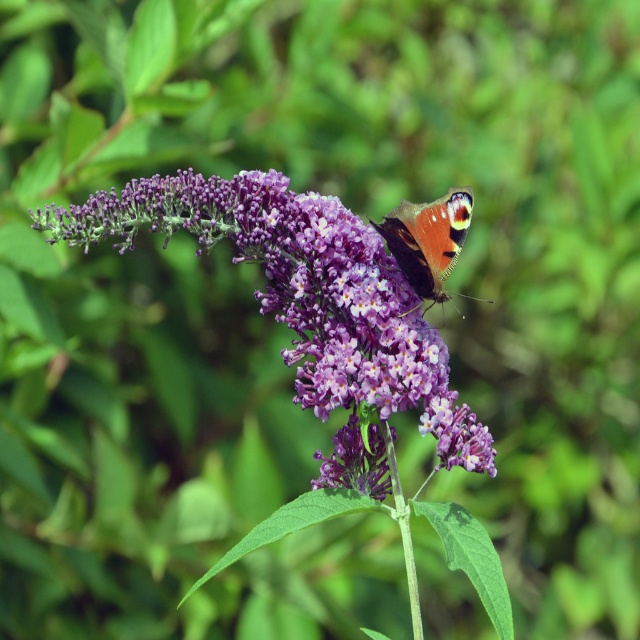Butterfly: (368, 184, 493, 321)
